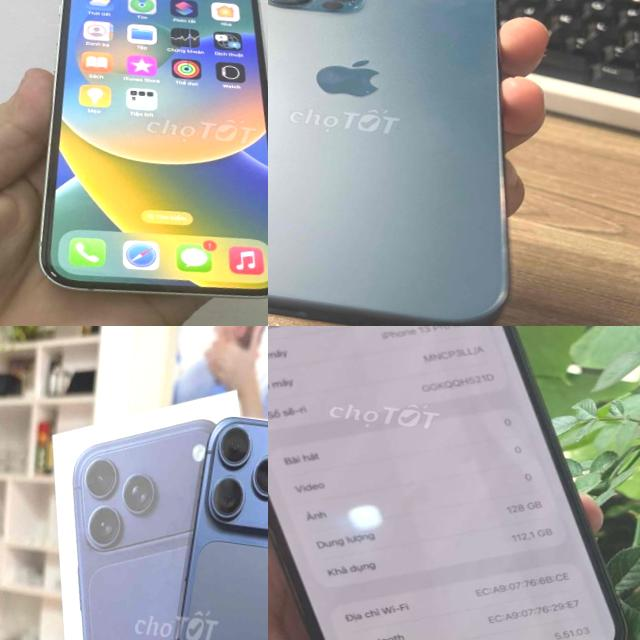gen_12_13: (268, 326, 640, 640), (268, 0, 556, 326), (21, 0, 268, 309)
gen_17: (143, 405, 268, 640)
